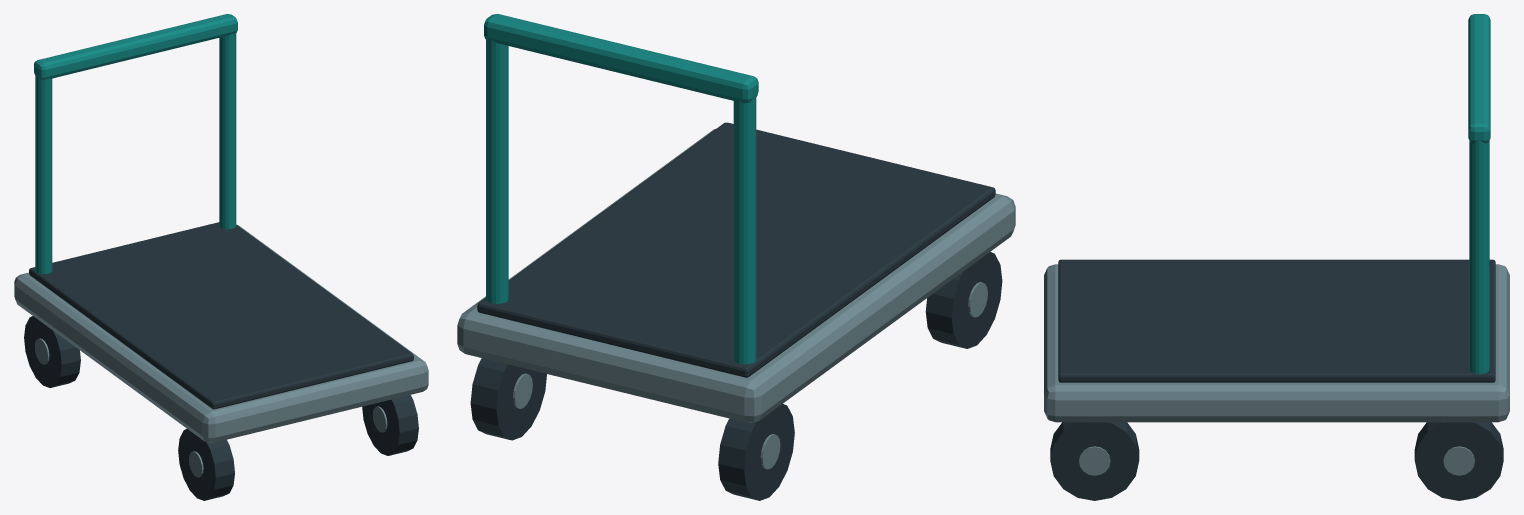
File: FourWheel_CarryTrolley.fbx
3 views of the same model, side by side, from view 1: azimuth 30°, elevation 25°; view 2: azimuth 150°, elevation 25°; view 3: azimuth 270°, elevation 25° (orthographic). The views are drawn at different scales.
Parts seen in each view (by area): view 1: FourWheel_CarryTrolley_Mesh; view 2: FourWheel_CarryTrolley_Mesh; view 3: FourWheel_CarryTrolley_Mesh.
Boxes of the visible parts, x1,y1,x2,y2 form: FourWheel_CarryTrolley_Mesh: (14, 14, 428, 500); FourWheel_CarryTrolley_Mesh: (457, 14, 1015, 500); FourWheel_CarryTrolley_Mesh: (1044, 14, 1509, 500).
Size of the model in its own units: 0.76 by 1.02 by 1.15.
1 material, 1 textured.
